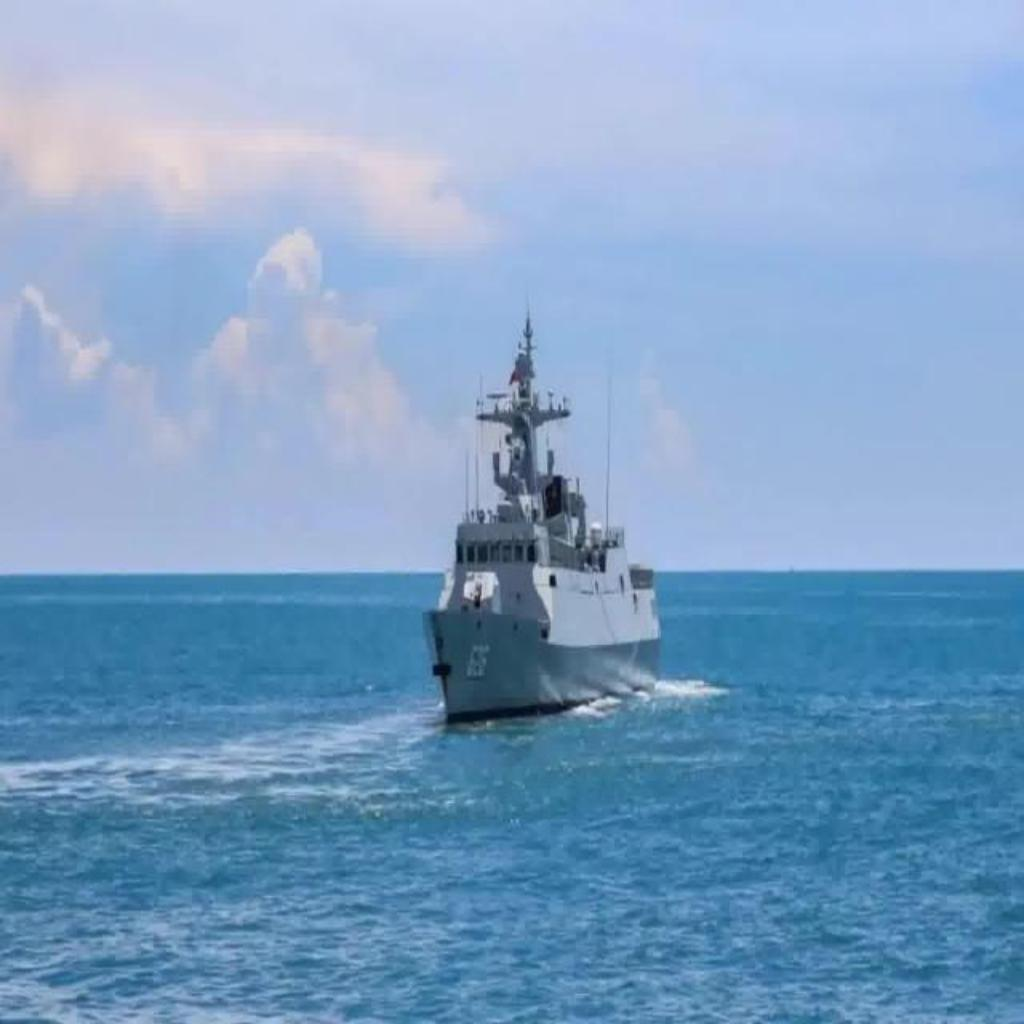Warship: (420, 298, 668, 730)
